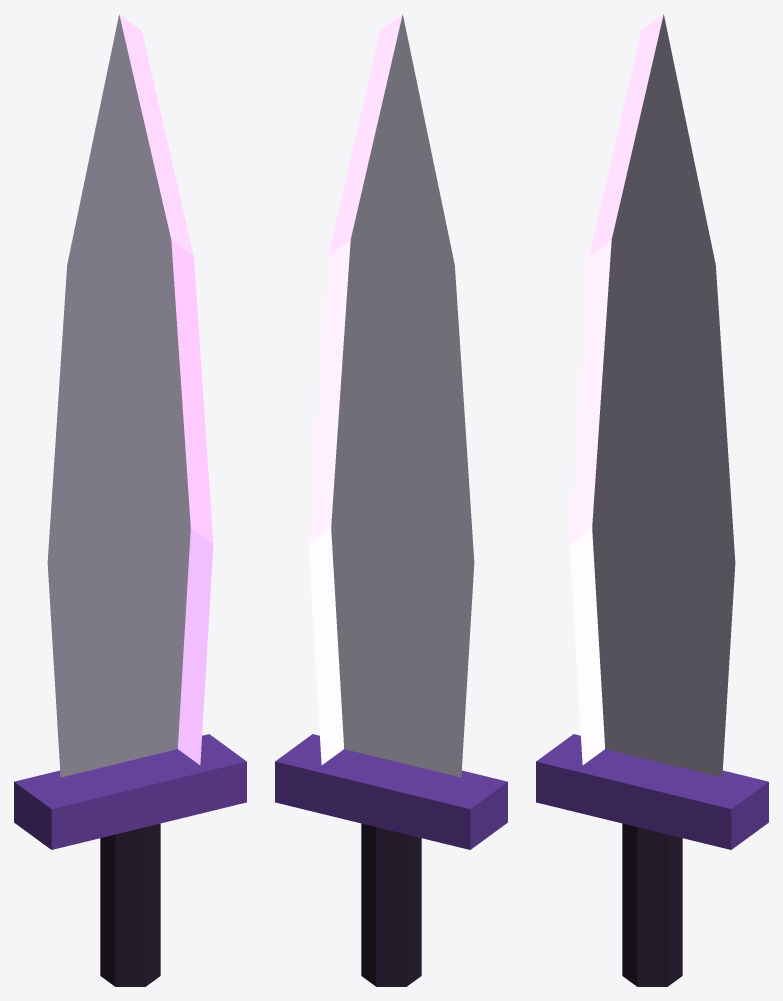
Rendered from w_item_dagger.glb.
3 renders of one model, left to right at view 1: azimuth 30°, elevation 25°; view 2: azimuth 150°, elevation 25°; view 3: azimuth 330°, elevation 25°, orthographic.
Visible parts, largest first — view 1: w_dagger; view 2: w_dagger; view 3: w_dagger.
Boxes of the visible parts, left/top/right/bottom form: w_dagger: left=14, top=14, right=246, bottom=986; w_dagger: left=275, top=14, right=507, bottom=986; w_dagger: left=536, top=14, right=768, bottom=986.
Bounding box in the file's own units: 0.3 × 1.4 × 0.1.
1 material, 1 textured.
